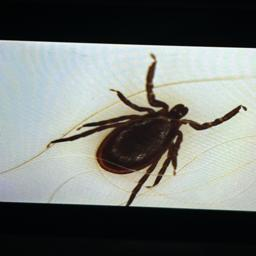Ixodes scapularis: (45, 54, 248, 205)
